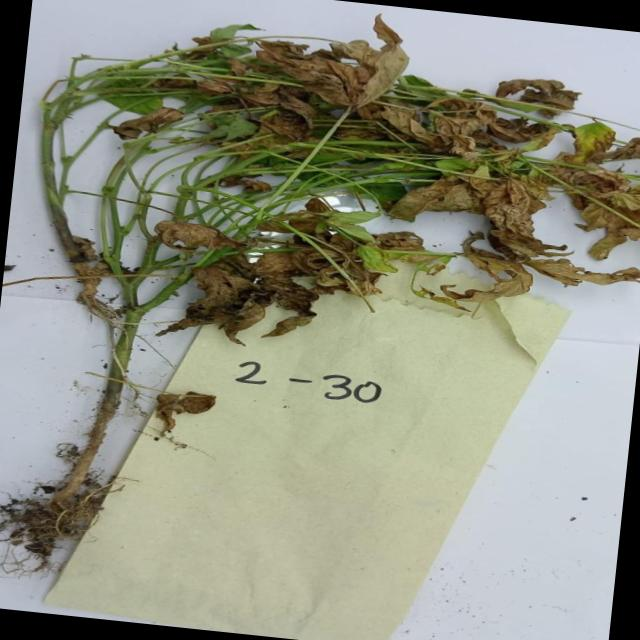Root: (13, 456, 107, 555), (55, 260, 134, 326)
Stem: (22, 96, 96, 254), (112, 140, 220, 223), (102, 285, 167, 403), (91, 139, 139, 261), (320, 138, 395, 204), (216, 152, 271, 235), (277, 146, 329, 207)
healty_leaves: (90, 68, 169, 114), (190, 107, 260, 147), (316, 217, 382, 244), (346, 179, 406, 207), (333, 203, 385, 226), (428, 154, 472, 178), (210, 18, 249, 42), (218, 41, 251, 60)
rooten_leaf: (234, 192, 432, 302), (448, 222, 640, 318), (183, 246, 346, 353), (382, 168, 582, 248), (260, 20, 414, 107), (553, 102, 640, 249), (185, 69, 324, 153), (351, 89, 509, 160), (466, 56, 609, 126), (145, 214, 253, 260), (140, 384, 226, 436), (112, 100, 184, 141), (494, 110, 558, 146)
